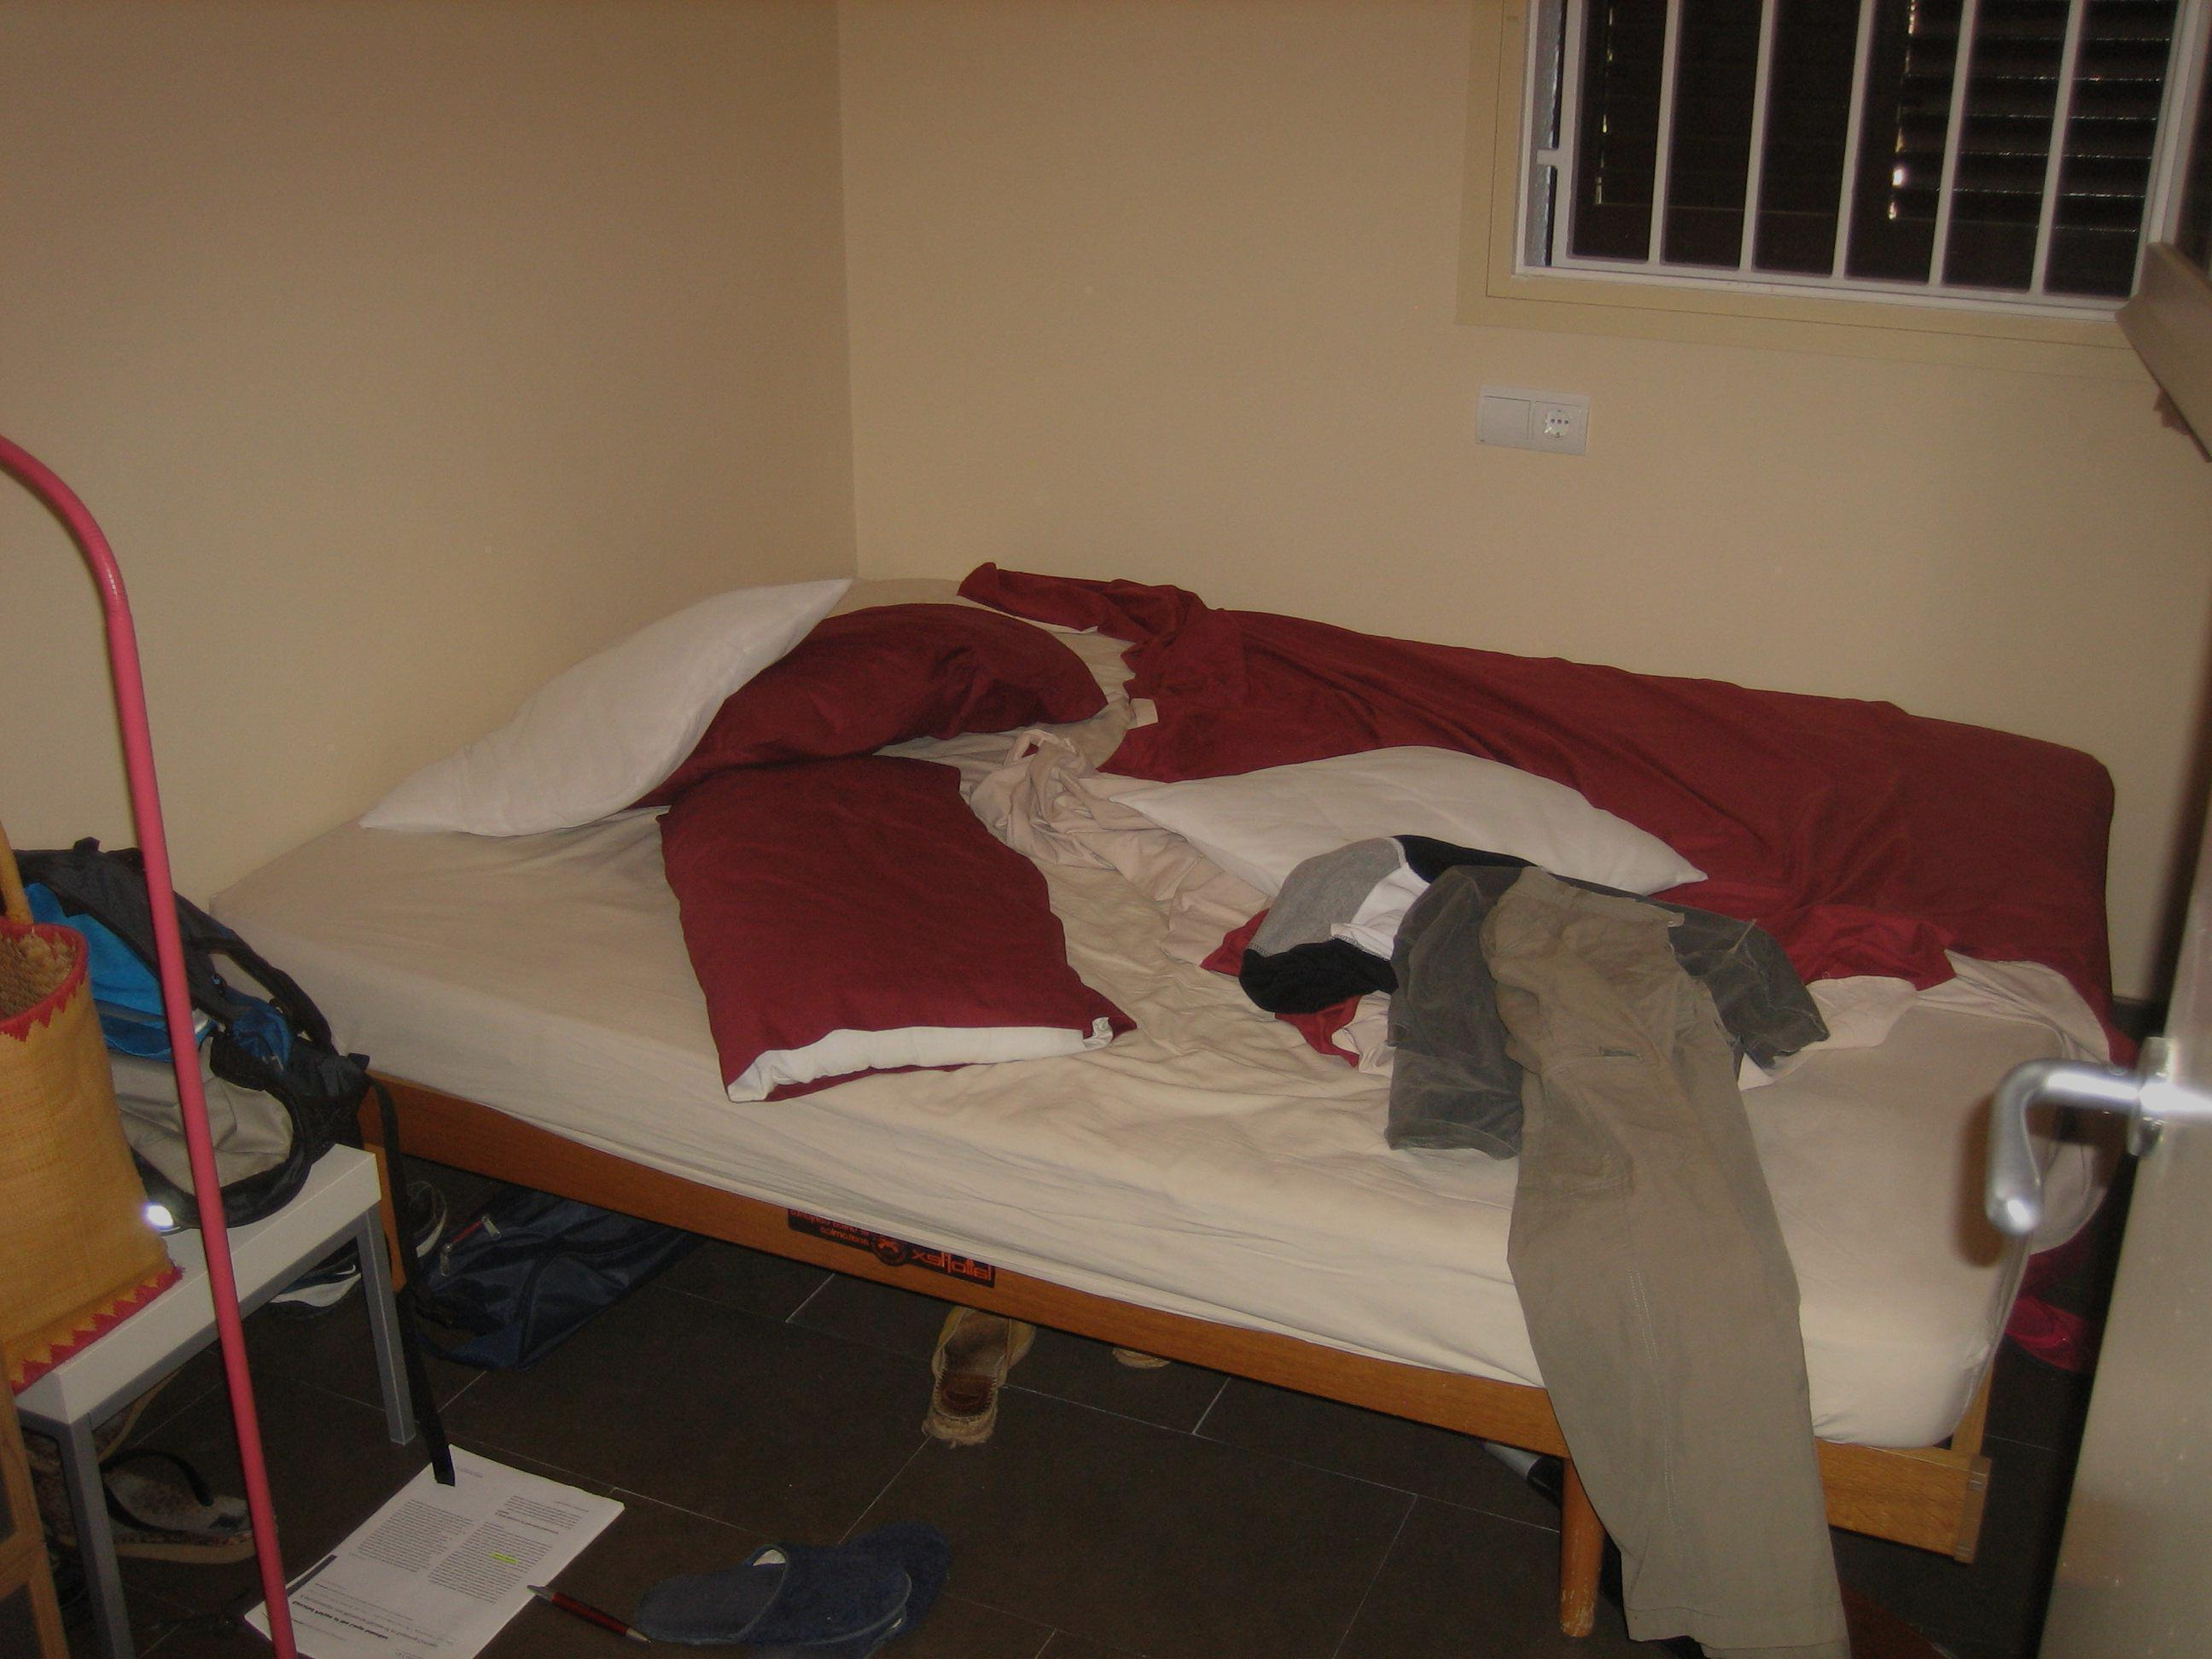Otro Obstaculo: (597, 1488, 970, 1638)
